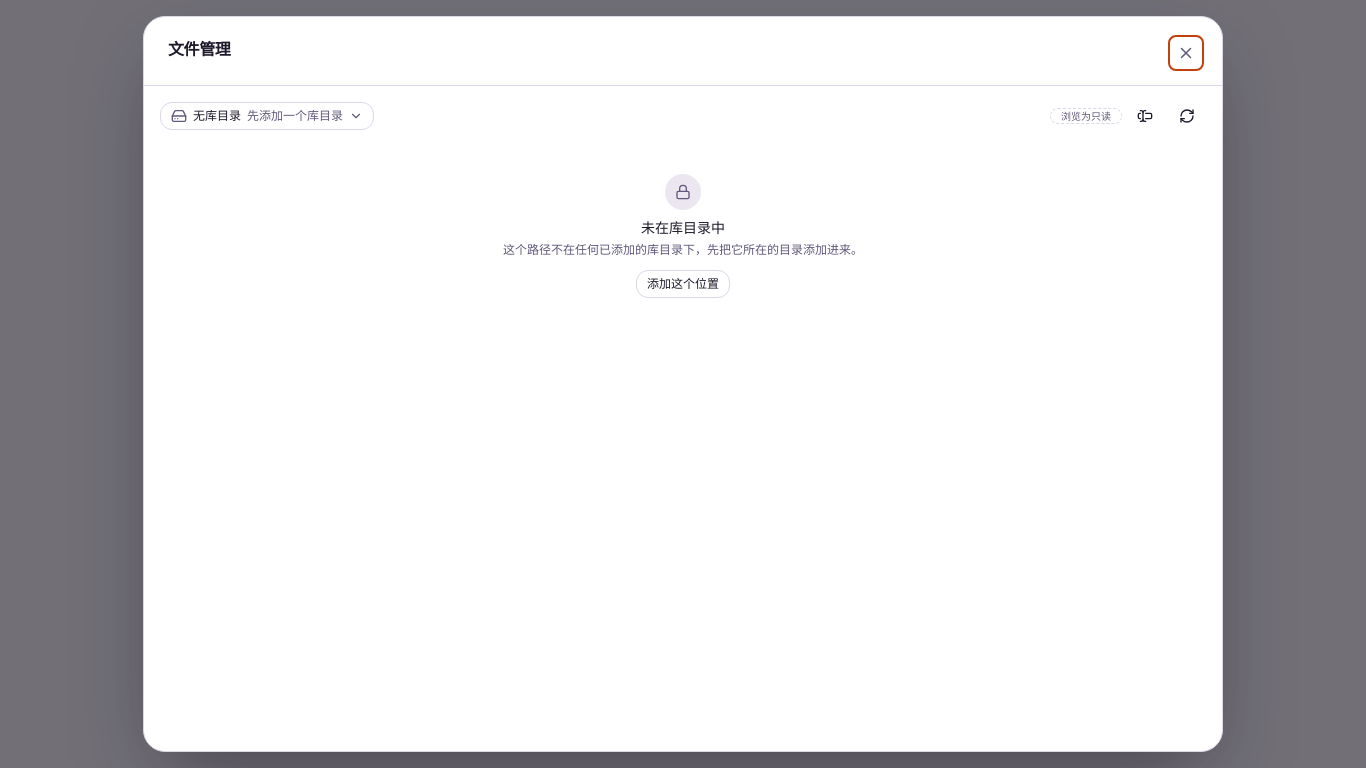
Test: FileManagerDialog › offers to add the parent directory when the path lies outside every library directory
Check: the text "未在库目录中" is shown, box [641,218,725,238]
Click the button "添加这个位置". click: (683, 284)
box: [636,270,730,298]
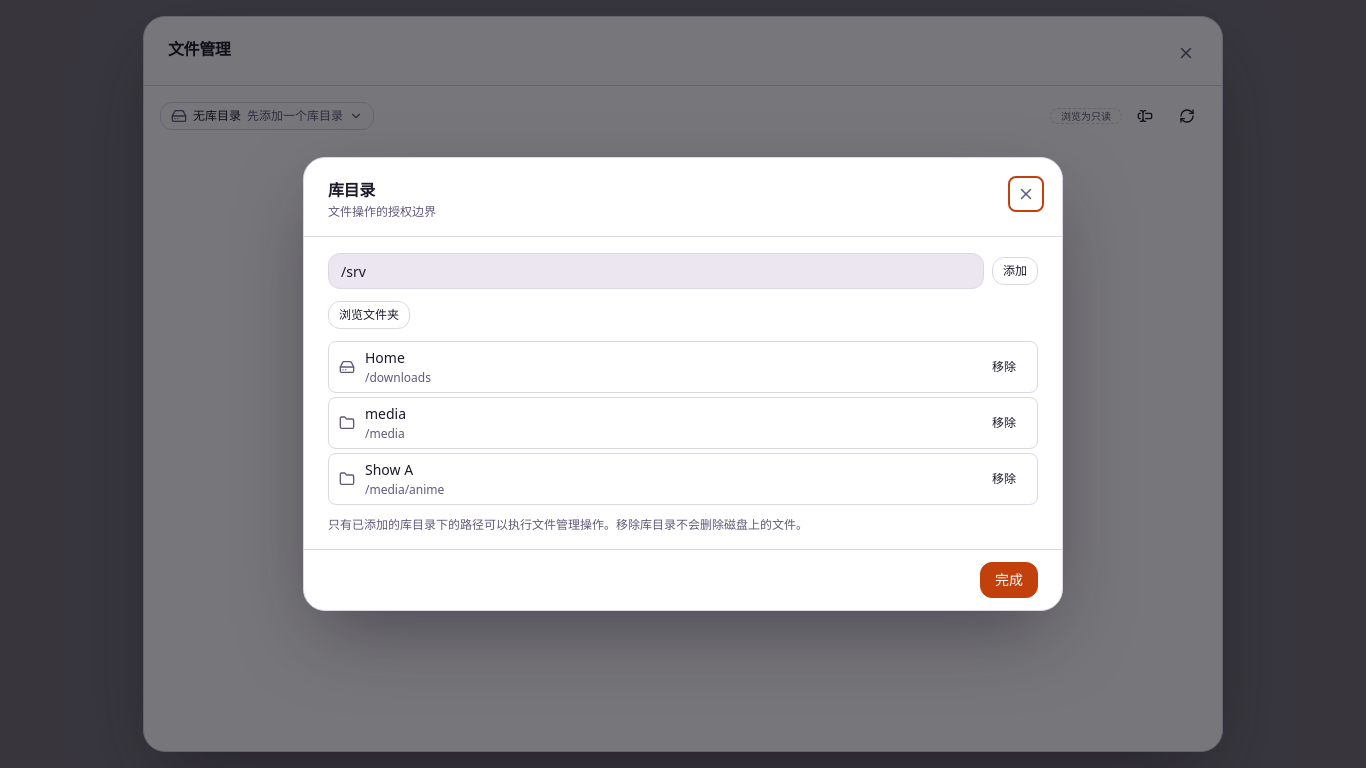
Check: the field named "目录路径" holds "/srv", box [328,253,984,289]
